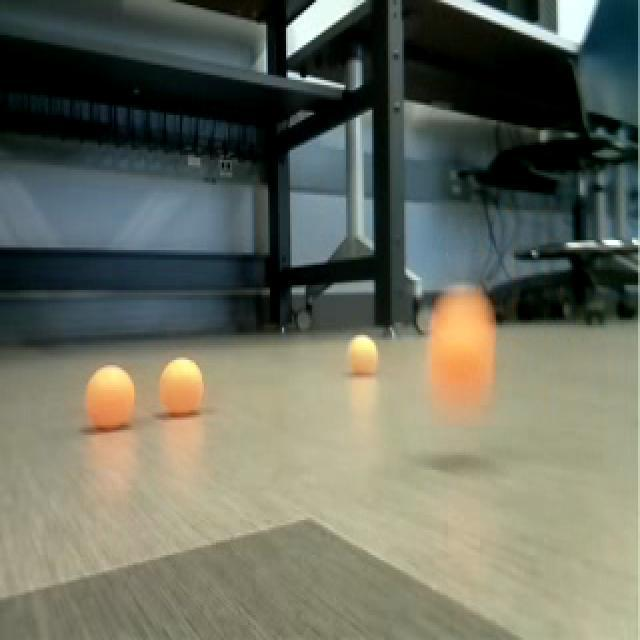ping-pong-ball: (420, 289, 503, 417), (154, 351, 209, 422), (82, 366, 138, 434), (343, 328, 386, 383)
